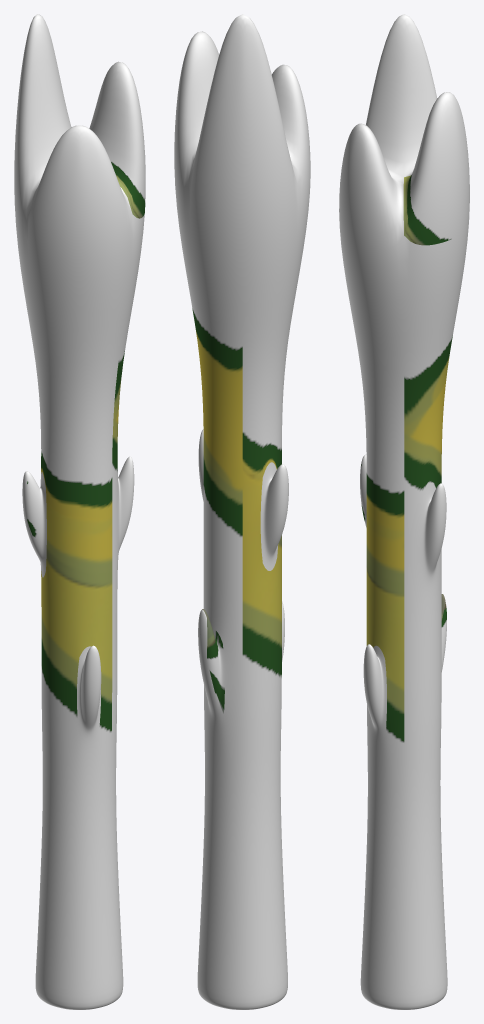
Rendered from SM_Asparagus.fbx.
3 views of the same model, side by side, from view 1: azimuth 30°, elevation 25°; view 2: azimuth 150°, elevation 25°; view 3: azimuth 330°, elevation 25° (orthographic). The views are drawn at different scales.
Visible parts, largest first — view 1: SM_Asparagus; view 2: SM_Asparagus; view 3: SM_Asparagus.
Part boxes in pixels (x1=…): SM_Asparagus: x1=14, y1=14, x2=145, y2=1009; SM_Asparagus: x1=174, y1=14, x2=310, y2=1009; SM_Asparagus: x1=339, y1=14, x2=469, y2=1009.
Bounding box in the file's own units: 4.49 × 37.03 × 4.53.
